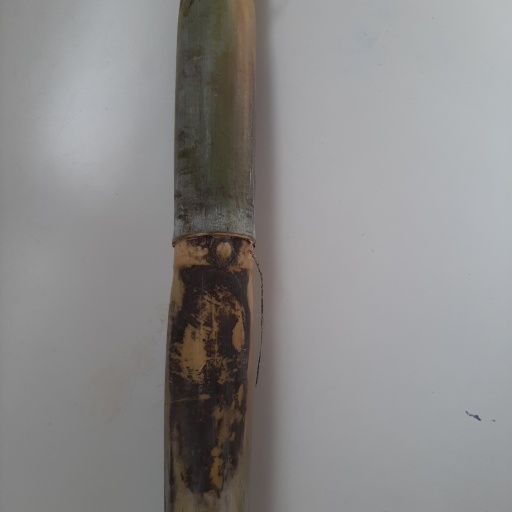Bud: (212, 239, 236, 270)
